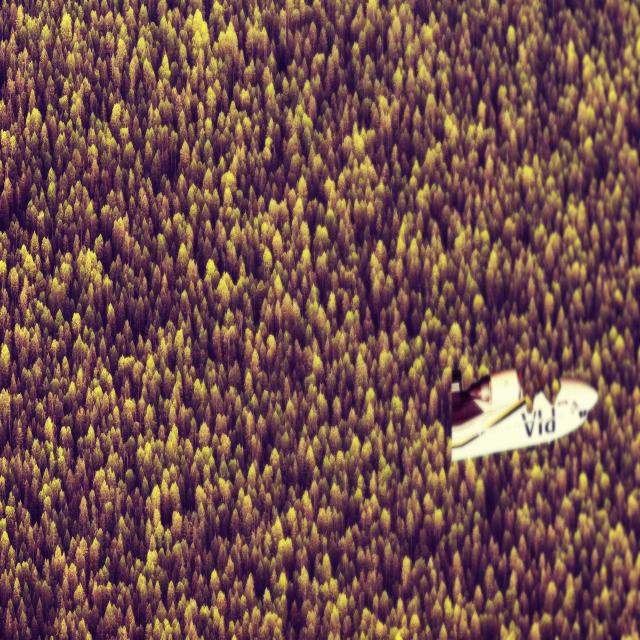airplane: (449, 367, 598, 462)
